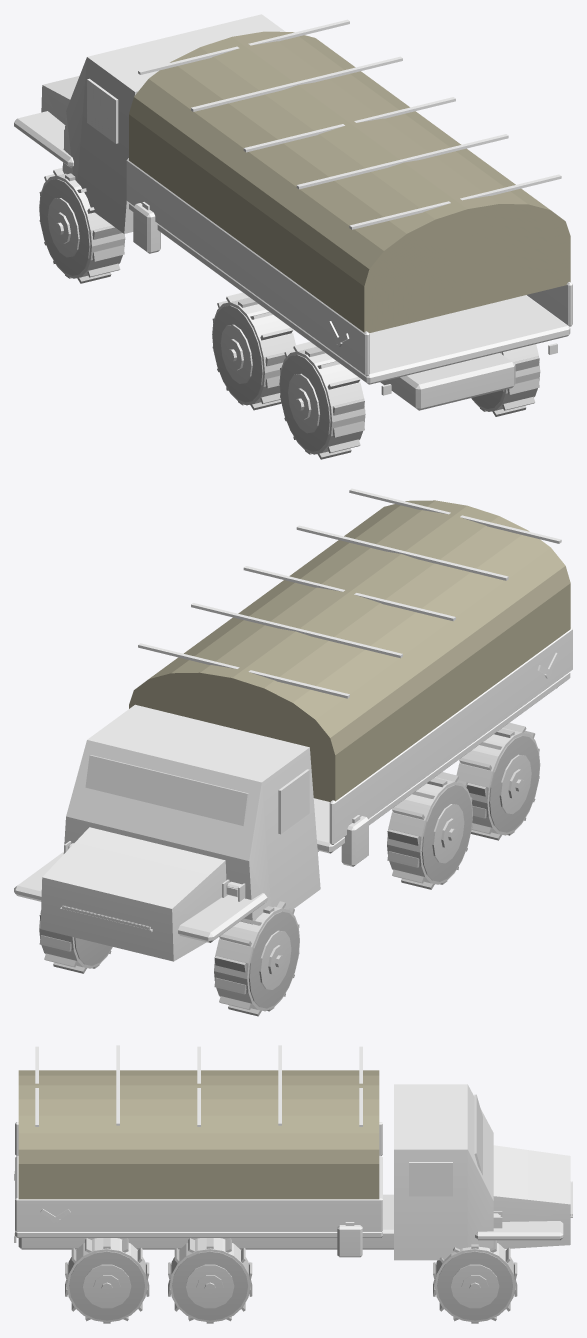
The model's file is truck_red.glb.
3 views of the same model, one above another, from view 1: azimuth 30°, elevation 25°; view 2: azimuth 150°, elevation 25°; view 3: azimuth 270°, elevation 25° (orthographic). The views are drawn at different scales.
Parts seen in each view (by area): view 1: body, wheel_4, wheel_2, wheel_0, wheel_5; view 2: body, wheel_2, wheel_0, wheel_4, wheel_1; view 3: body, wheel_3, wheel_5, wheel_1.
Boxes of the visible parts, <box> form: body: <box>14,14,572,410</box>; wheel_4: <box>279,342,365,459</box>; wheel_2: <box>212,292,295,410</box>; wheel_0: <box>39,167,125,283</box>; wheel_5: <box>471,344,540,416</box>; body: <box>14,488,572,961</box>; wheel_2: <box>387,772,472,889</box>; wheel_0: <box>214,901,299,1016</box>; wheel_4: <box>456,722,540,840</box>; wheel_1: <box>39,911,112,973</box>; body: <box>14,1045,572,1260</box>; wheel_3: <box>168,1238,252,1323</box>; wheel_5: <box>65,1238,149,1323</box>; wheel_1: <box>433,1240,517,1323</box>.
Bounding box in the file's own units: 2.68 × 3.01 × 7.6.
